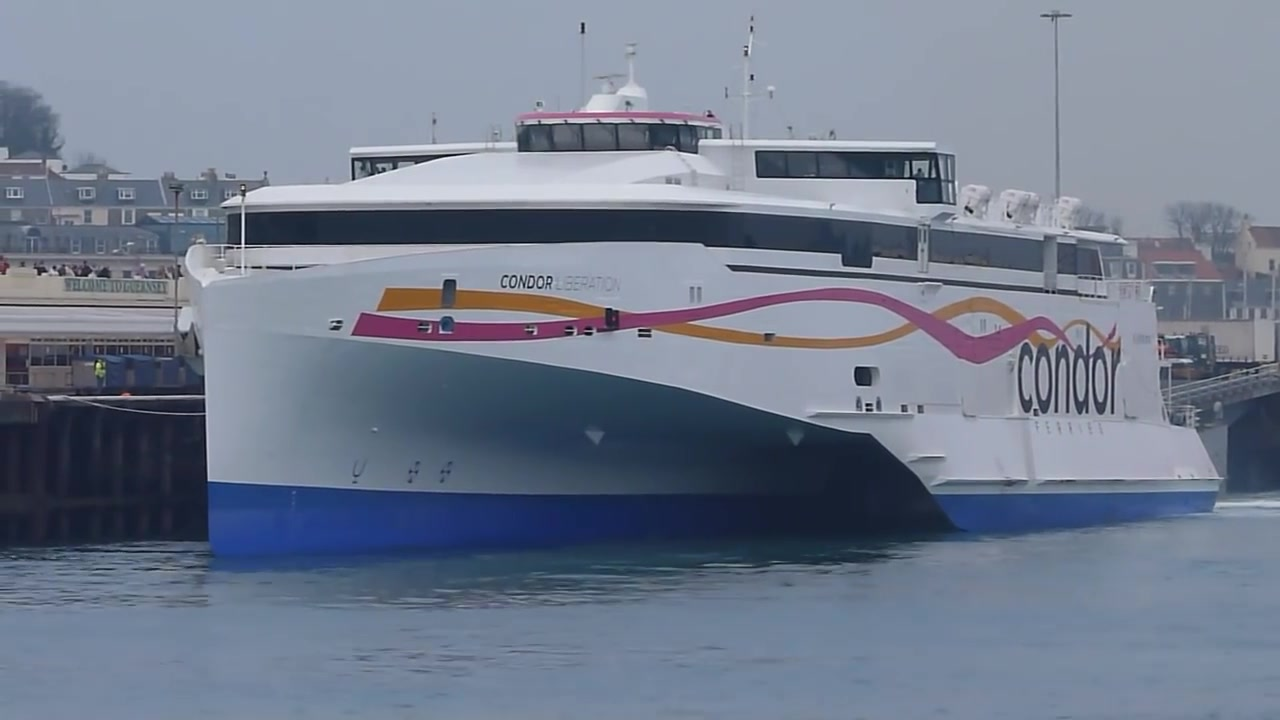CommonShip: (181, 71, 1226, 563)
